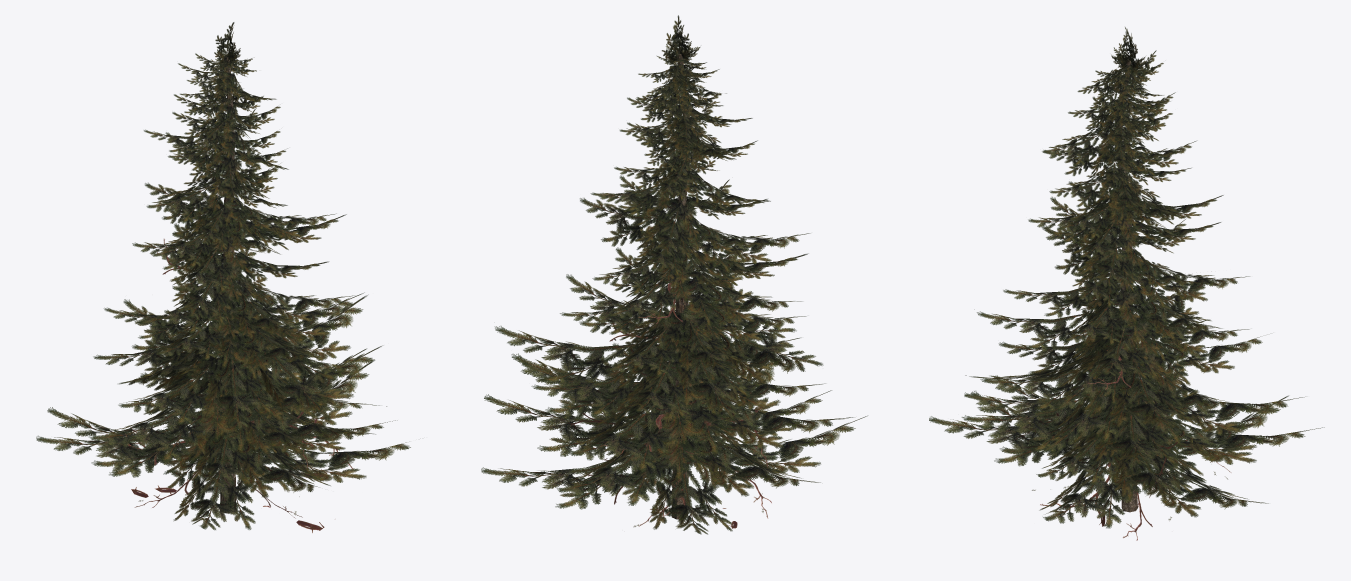
File: pino_4m.glb
3 renders of one model, left to right at view 1: azimuth 30°, elevation 25°; view 2: azimuth 150°, elevation 25°; view 3: azimuth 270°, elevation 25°, orthographic. The views are drawn at different scales.
Visible parts, largest first — view 1: pino_leaf, pino_branch, pino_trunk; view 2: pino_leaf, pino_branch, pino_trunk; view 3: pino_leaf, pino_branch, pino_trunk.
Boxes of the visible parts, <box> form: pino_leaf: <box>36,22,410,530</box>; pino_branch: <box>106,239,354,532</box>; pino_trunk: <box>220,57,235,513</box>; pino_leaf: <box>481,15,866,534</box>; pino_branch: <box>560,280,773,528</box>; pino_trunk: <box>671,54,690,519</box>; pino_leaf: <box>929,27,1324,528</box>; pino_branch: <box>1014,345,1231,540</box>; pino_trunk: <box>1116,59,1137,512</box>.
Size of the model in its own units: 3.4 by 4.42 by 3.29.
Materials: 3 (3 with a texture image).
